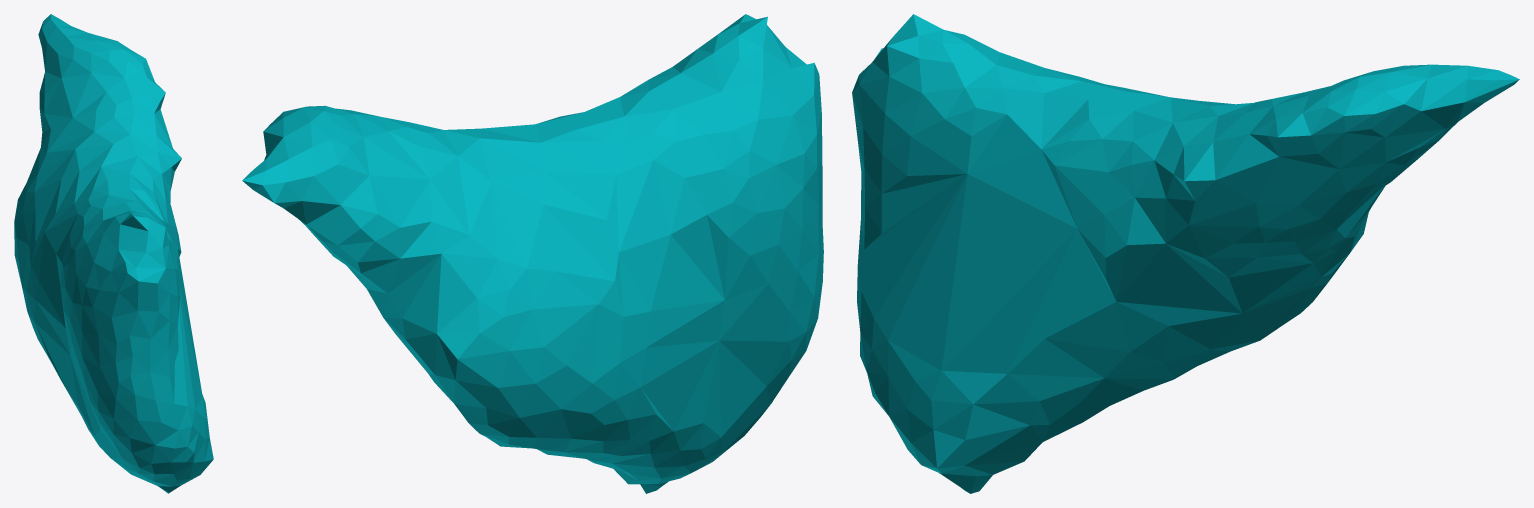
Rendered from Model_311_RH__Suprageniculate_thalamic_nucleus_(SG).obj.
The picture shows the model from 3 angles, left to right: view 1: azimuth 30°, elevation 25°; view 2: azimuth 150°, elevation 25°; view 3: azimuth 270°, elevation 25°; orthographic projection. The views are drawn at different scales.
Bounding box in the file's own units: 0.7698 × 1.21 × 1.55.
